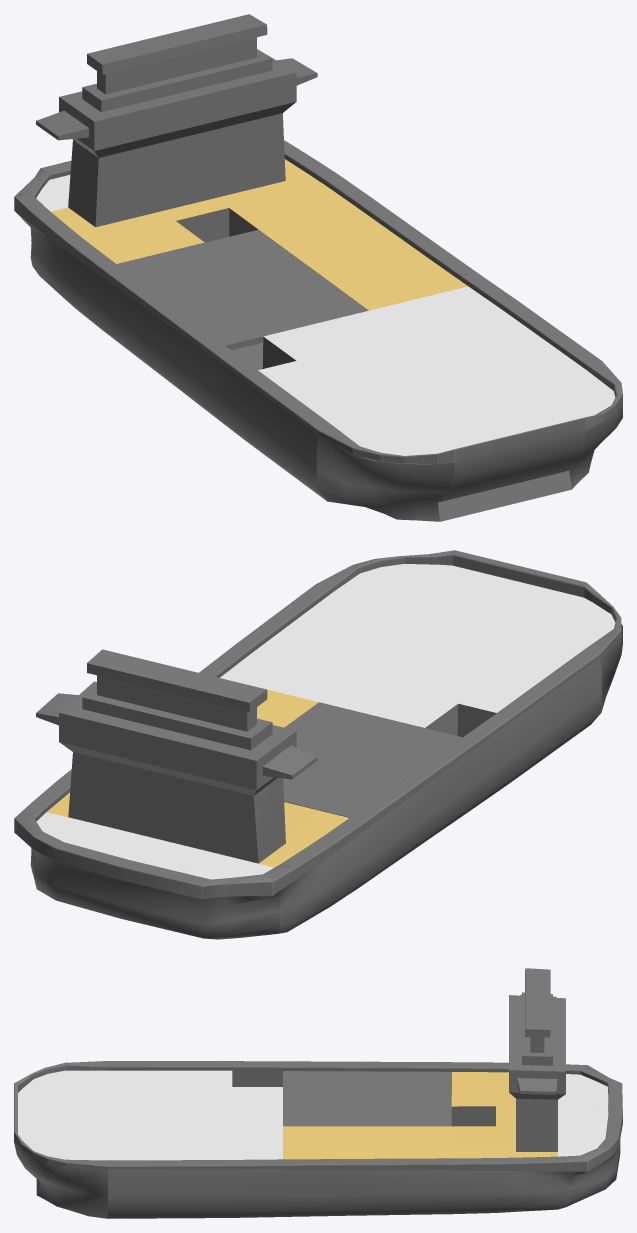
The model's file is Ship_Full_02.fbx.
The picture shows the model from 3 angles, top to bottom: view 1: azimuth 30°, elevation 25°; view 2: azimuth 150°, elevation 25°; view 3: azimuth 270°, elevation 25°; orthographic projection. The views are drawn at different scales.
Visible parts, largest first — view 1: Floor, Cabin, Sides(Body), UpperLining, Floor_piece, Inside Walls; view 2: Floor, Cabin, Sides(Body), UpperLining, Floor_piece, Inside Walls; view 3: Floor, Sides(Body), UpperLining, Floor_piece, Cabin, Inside Walls.
Part boxes in pixels (box(x1,y1,x2,y2)): Floor: box(36, 159, 615, 455); Cabin: box(36, 14, 317, 227); Sides(Body): box(15, 211, 622, 521); UpperLining: box(14, 140, 622, 463); Floor_piece: box(117, 229, 368, 350); Inside Walls: box(118, 208, 311, 369); Floor: box(36, 564, 615, 879); Cabin: box(36, 649, 317, 863); Sides(Body): box(30, 624, 622, 939); UpperLining: box(14, 550, 621, 899); Floor_piece: box(283, 702, 462, 817); Inside Walls: box(321, 702, 496, 737); Floor: box(18, 1070, 608, 1160); Sides(Body): box(14, 1139, 620, 1218); UpperLining: box(14, 1061, 622, 1171); Floor_piece: box(283, 1071, 450, 1126); Cabin: box(509, 968, 565, 1151); Inside Walls: box(232, 1070, 495, 1126).
Bounding box in the file's own units: 240 × 183 × 579.
